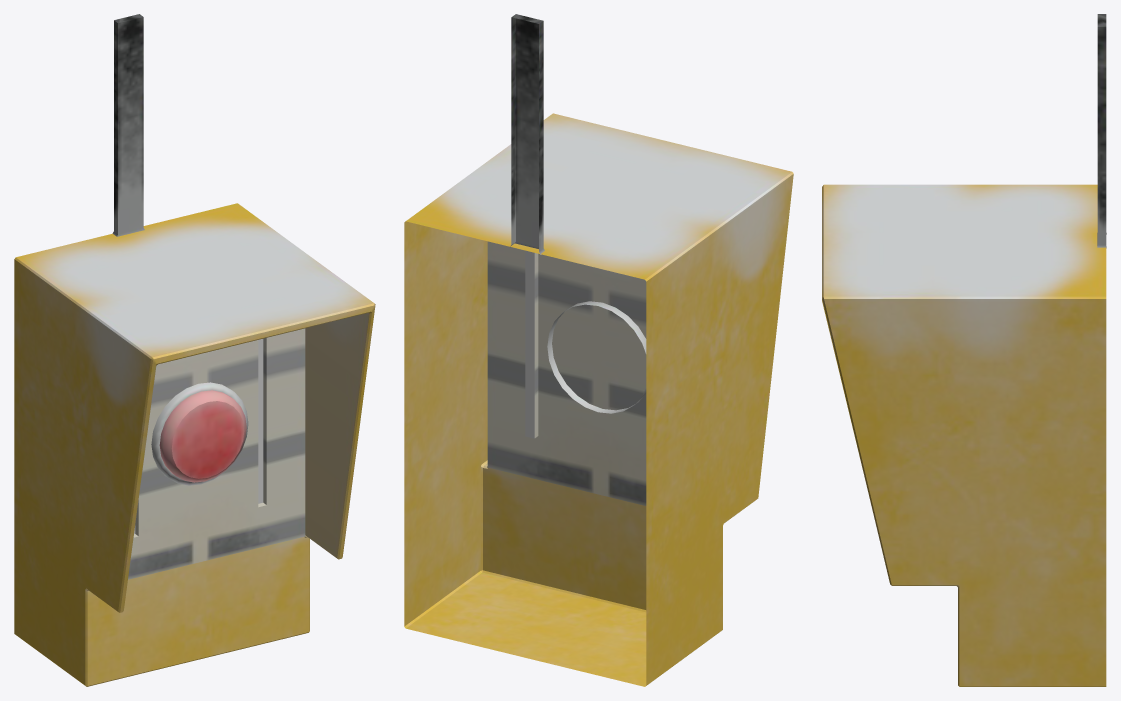
The model's file is field_winter_switch_forlightpillar.fbx.
3 views of the same model, side by side, from view 1: azimuth 30°, elevation 25°; view 2: azimuth 150°, elevation 25°; view 3: azimuth 270°, elevation 25° (orthographic). The views are drawn at different scales.
Visible parts, largest first — view 1: field_winter_switch_forlightpillar, field_winter_switch_button_forlightpillar; view 2: field_winter_switch_forlightpillar; view 3: field_winter_switch_forlightpillar.
Boxes of the visible parts, x1,y1,x2,y2 form: field_winter_switch_forlightpillar: (14,14,375,686); field_winter_switch_button_forlightpillar: (159,390,246,482); field_winter_switch_forlightpillar: (404,14,793,686); field_winter_switch_forlightpillar: (822,14,1106,686).
Size of the model in its own units: 27.13 by 68.18 by 28.81.
2 materials, 1 textured.
